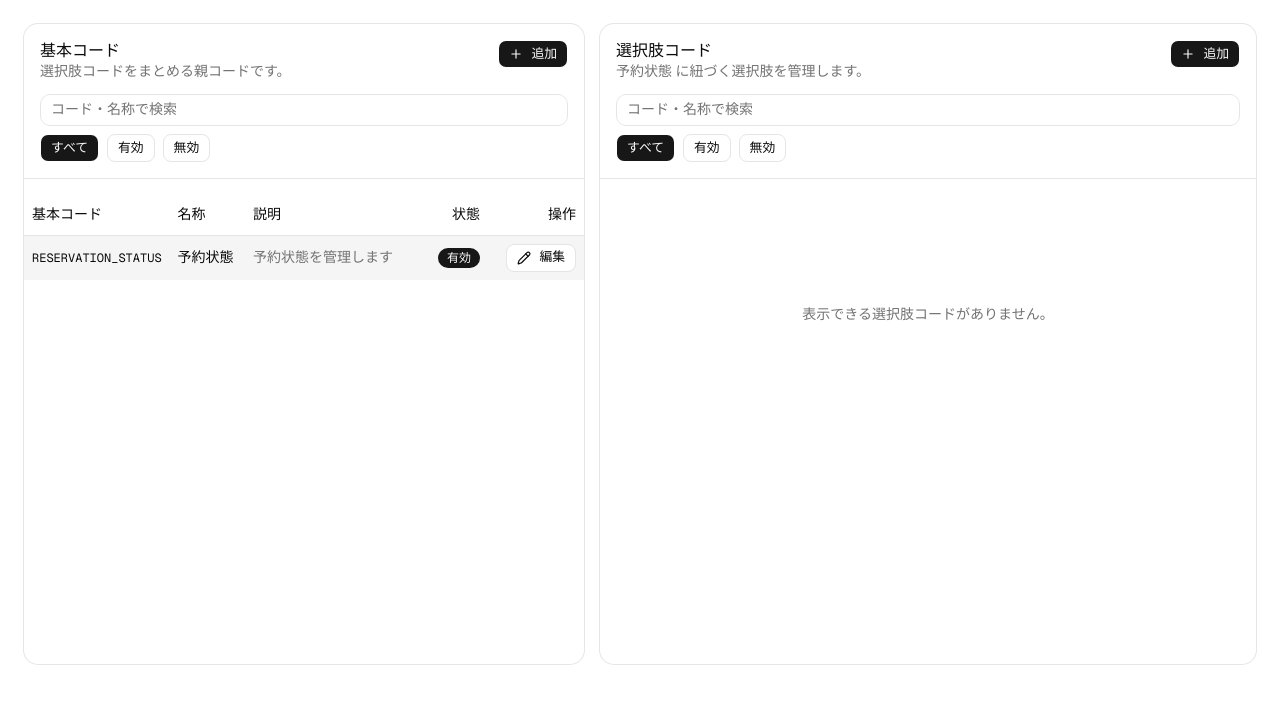
Test case: StandardCodeMasterPage › 基本コードの追加を押すと、追加ダイアログを表示する
This screenshot has width=1280, height=720.
Expected: the text "予約状態" is shown, [178,248,237,268]
# [0] は左側の基本コード追加ボタン
Click the button "追加" in the row of "選択肢コードをまとめる親コードです。".
click(533, 54)  # box [498,40,568,68]
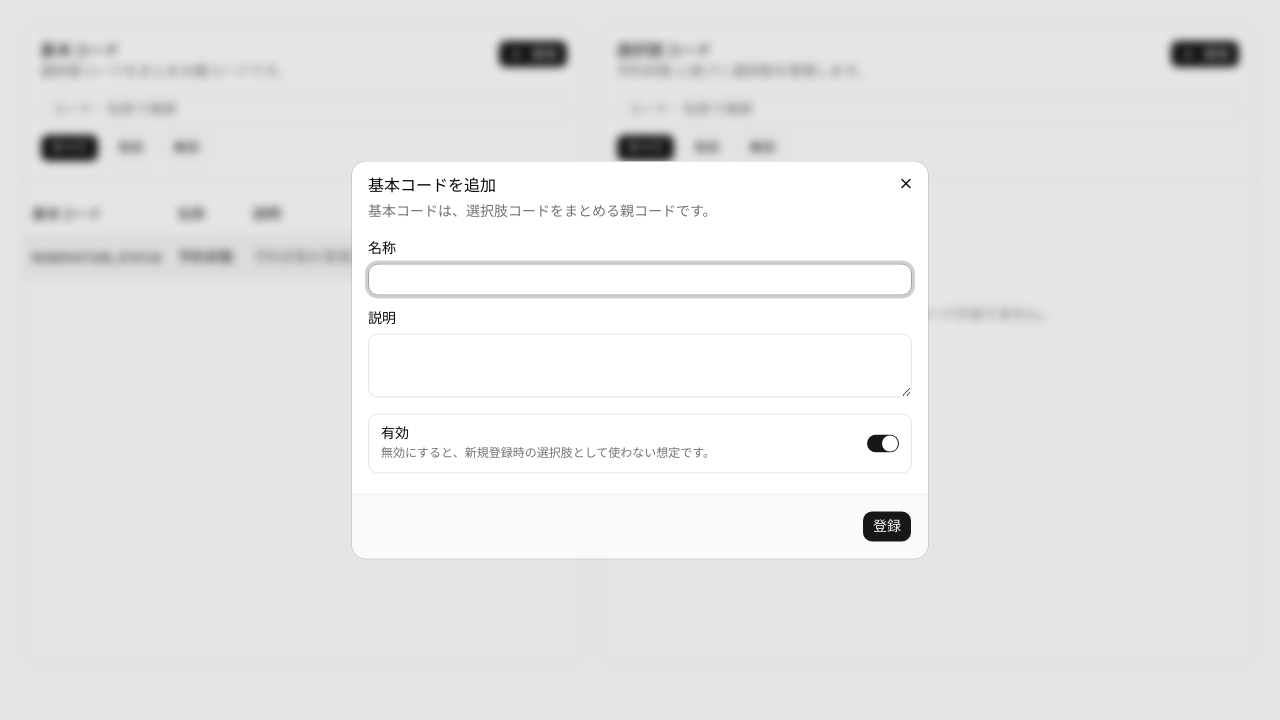
Expected: the heading "基本コードを追加" is shown, [368,176,496,194]
